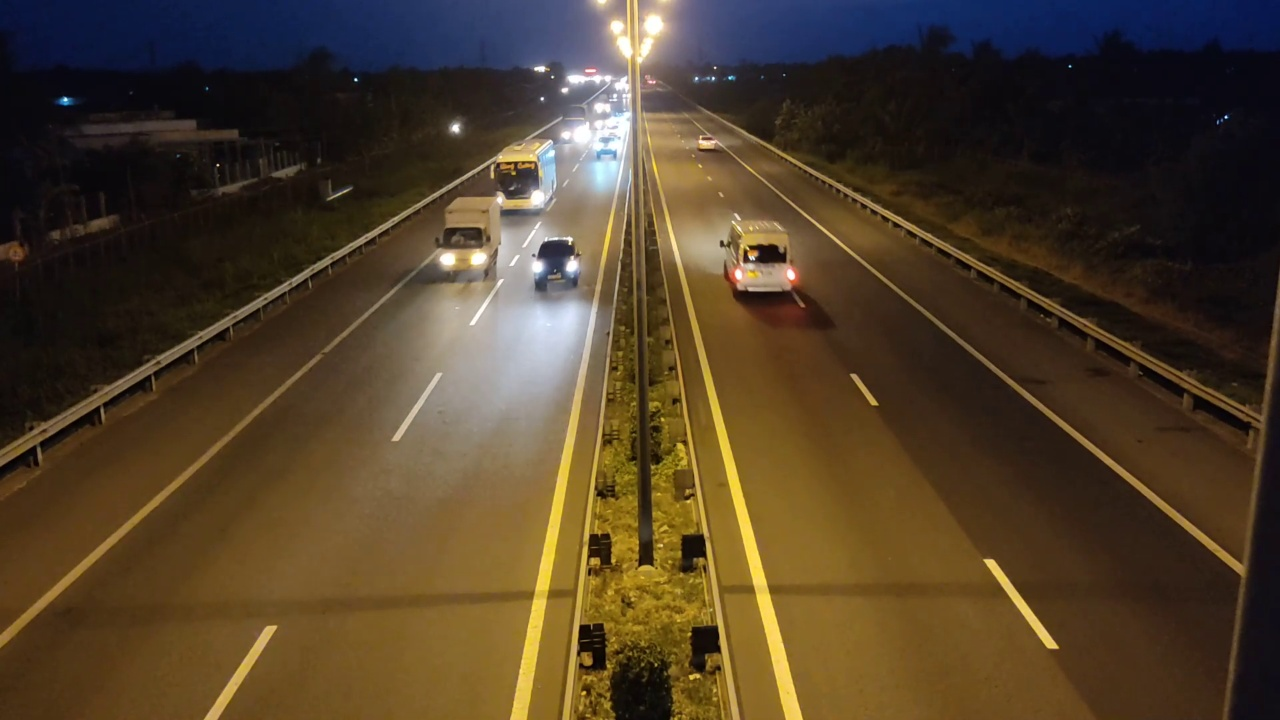bus: (493, 137, 559, 213)
car: (719, 216, 801, 302), (531, 237, 581, 291), (695, 135, 722, 153)
truck: (435, 195, 503, 282)
